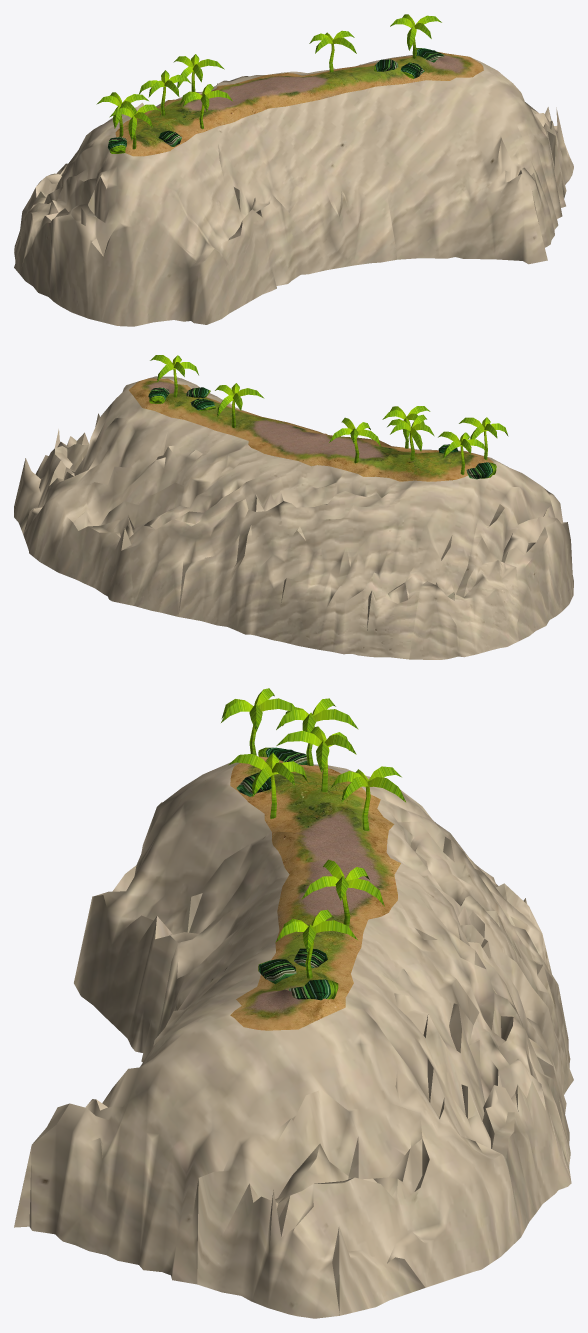
The model's file is island-t08.glb.
3 renders of one model, top to bottom at view 1: azimuth 30°, elevation 25°; view 2: azimuth 150°, elevation 25°; view 3: azimuth 270°, elevation 25°, orthographic. The views are drawn at different scales.
Visible parts, largest first — view 1: island; view 2: island; view 3: island.
Part boxes in pixels (<box>): island: <box>14,14,573,326</box>; island: <box>14,355,573,659</box>; island: <box>14,688,573,1318</box>.
Size of the model in its own units: 84.52 by 27.41 by 49.21.
3 materials, 3 textured.
